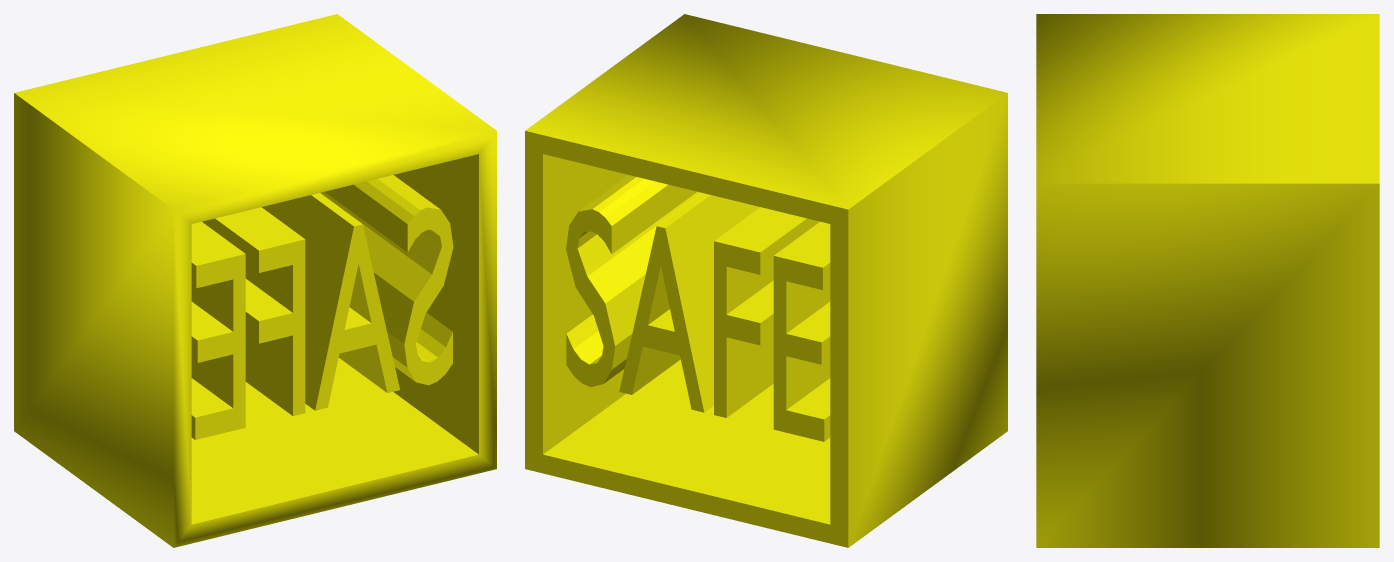
The model's file is SafeHighlight.fbx.
The picture shows the model from 3 angles, left to right: view 1: azimuth 30°, elevation 25°; view 2: azimuth 150°, elevation 25°; view 3: azimuth 270°, elevation 25°; orthographic projection. The views are drawn at different scales.
Visible parts, largest first — view 1: SafeHighlight; view 2: SafeHighlight; view 3: SafeHighlight.
Boxes of the visible parts, x1,y1,x2,y2 form: SafeHighlight: (14,14,496,547); SafeHighlight: (525,14,1007,547); SafeHighlight: (1036,14,1379,547).
Bounding box in the file's own units: 224 × 224 × 191.
